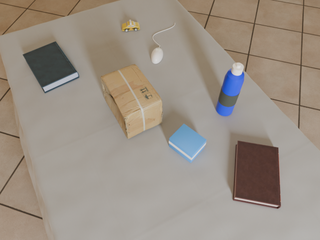book: (233, 141, 281, 209), (23, 41, 79, 93)
bottle: (216, 63, 244, 116)
box: (101, 64, 163, 139), (169, 124, 206, 163)
mouse: (151, 48, 163, 64)
toy_car: (122, 20, 140, 32)
